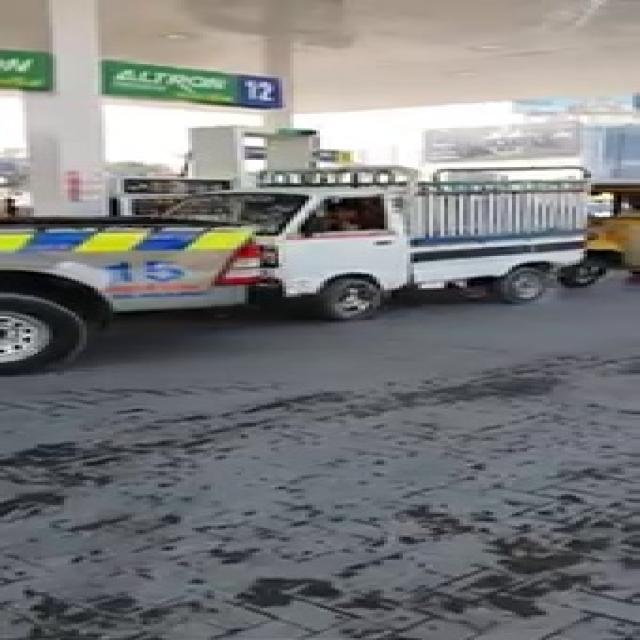police: (0, 190, 280, 385)
